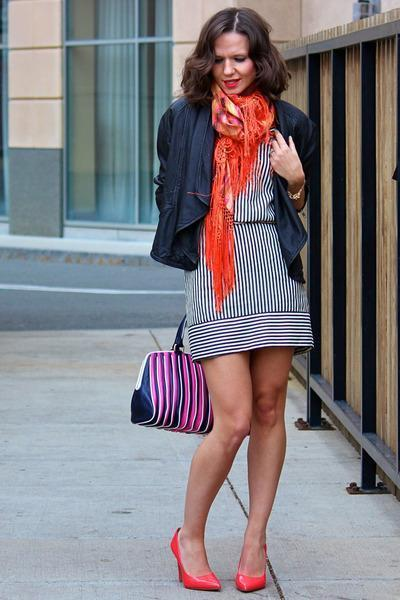bag: (131, 315, 213, 434)
dress: (171, 160, 313, 374)
jacket: (150, 84, 320, 314)
shoe: (171, 540, 275, 592)
